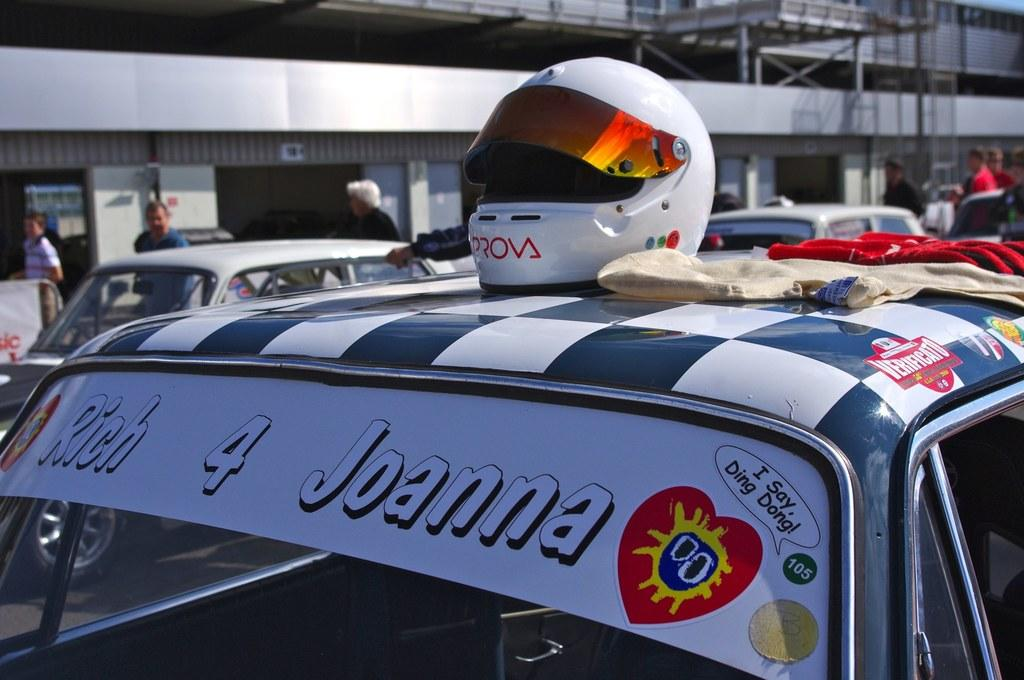helmet: (462, 56, 717, 294)
nohelmet: (346, 179, 382, 220), (145, 201, 173, 237), (22, 211, 48, 241), (884, 158, 906, 185), (965, 146, 987, 173), (985, 147, 1004, 175)
